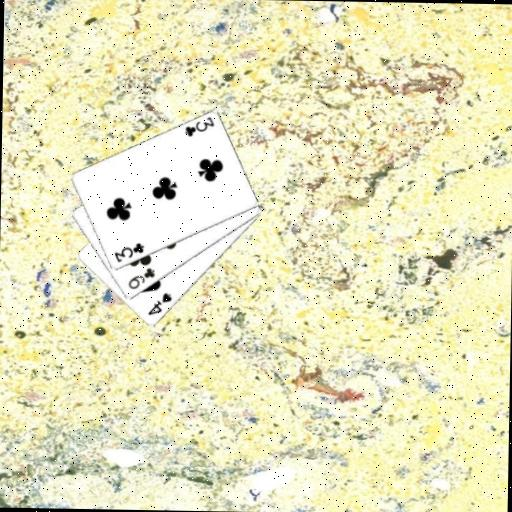3C: (111, 239, 145, 265), (182, 113, 216, 139)
4S: (145, 290, 174, 317)
9C: (125, 265, 156, 292)
